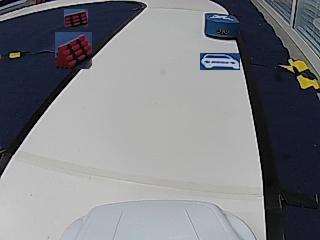prop: (204, 14, 239, 40)
